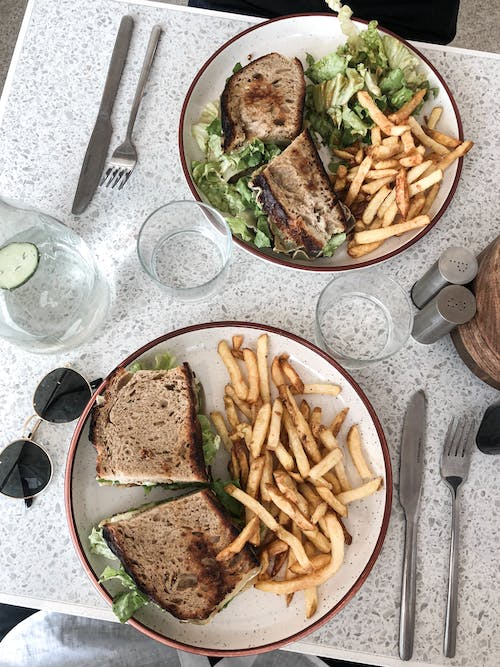knife: (69, 13, 136, 216), (396, 385, 430, 663)
